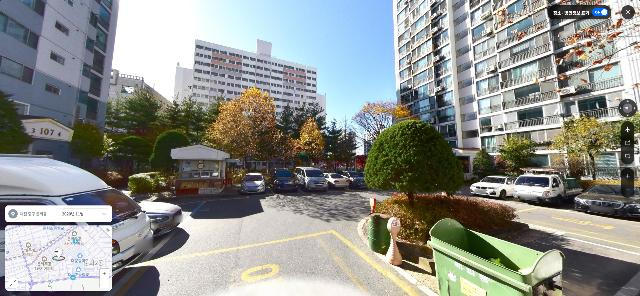ginkgo: (204, 85, 281, 175), (349, 100, 399, 144), (292, 116, 326, 167), (390, 103, 413, 120)
other: (363, 117, 464, 208), (106, 85, 164, 174), (550, 115, 617, 184), (278, 101, 328, 170), (163, 94, 213, 147), (148, 129, 190, 183), (0, 92, 33, 154), (321, 117, 357, 171), (69, 119, 106, 171), (495, 133, 537, 176), (114, 136, 152, 175), (470, 148, 496, 181)
